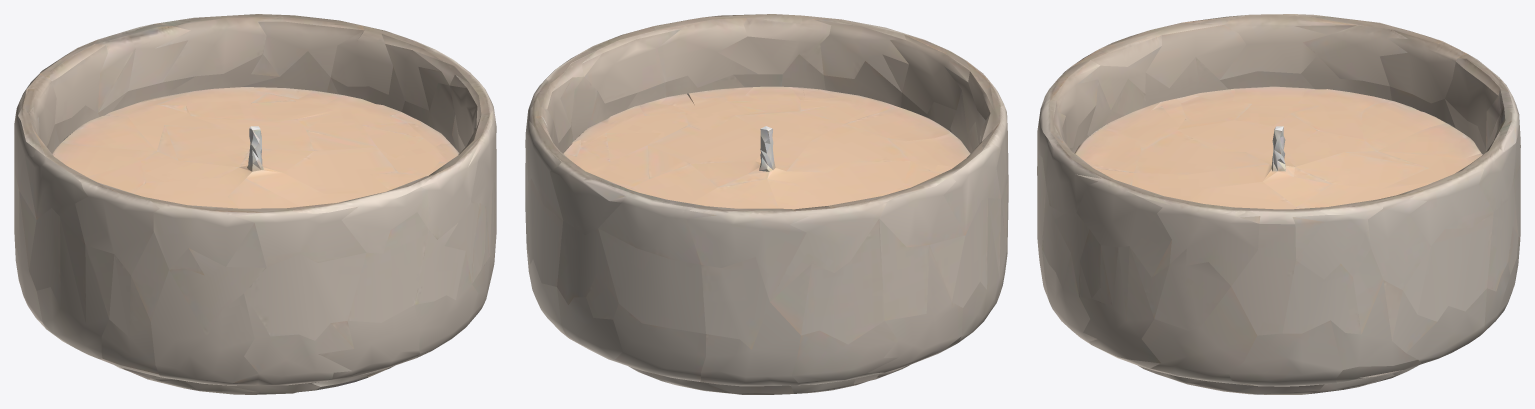
3 views of the same model, side by side, from view 1: azimuth 30°, elevation 25°; view 2: azimuth 150°, elevation 25°; view 3: azimuth 270°, elevation 25° (orthographic).
Bounding box in the file's own units: 0.9999 × 0.4803 × 1.
1 material, 1 textured.
